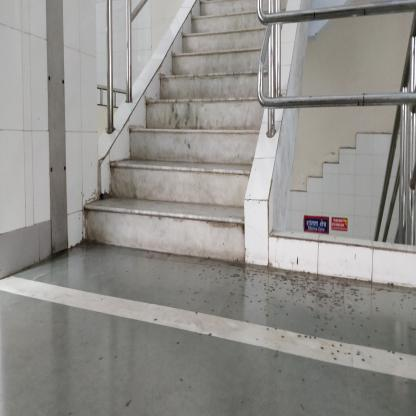stairs: (163, 82, 243, 269)
